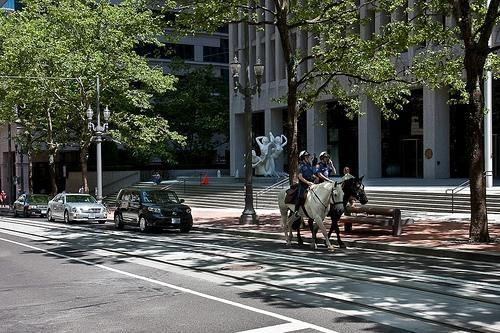bicycle: (101, 195, 111, 214)
car: (111, 184, 195, 230), (46, 192, 108, 224), (11, 191, 52, 218)
